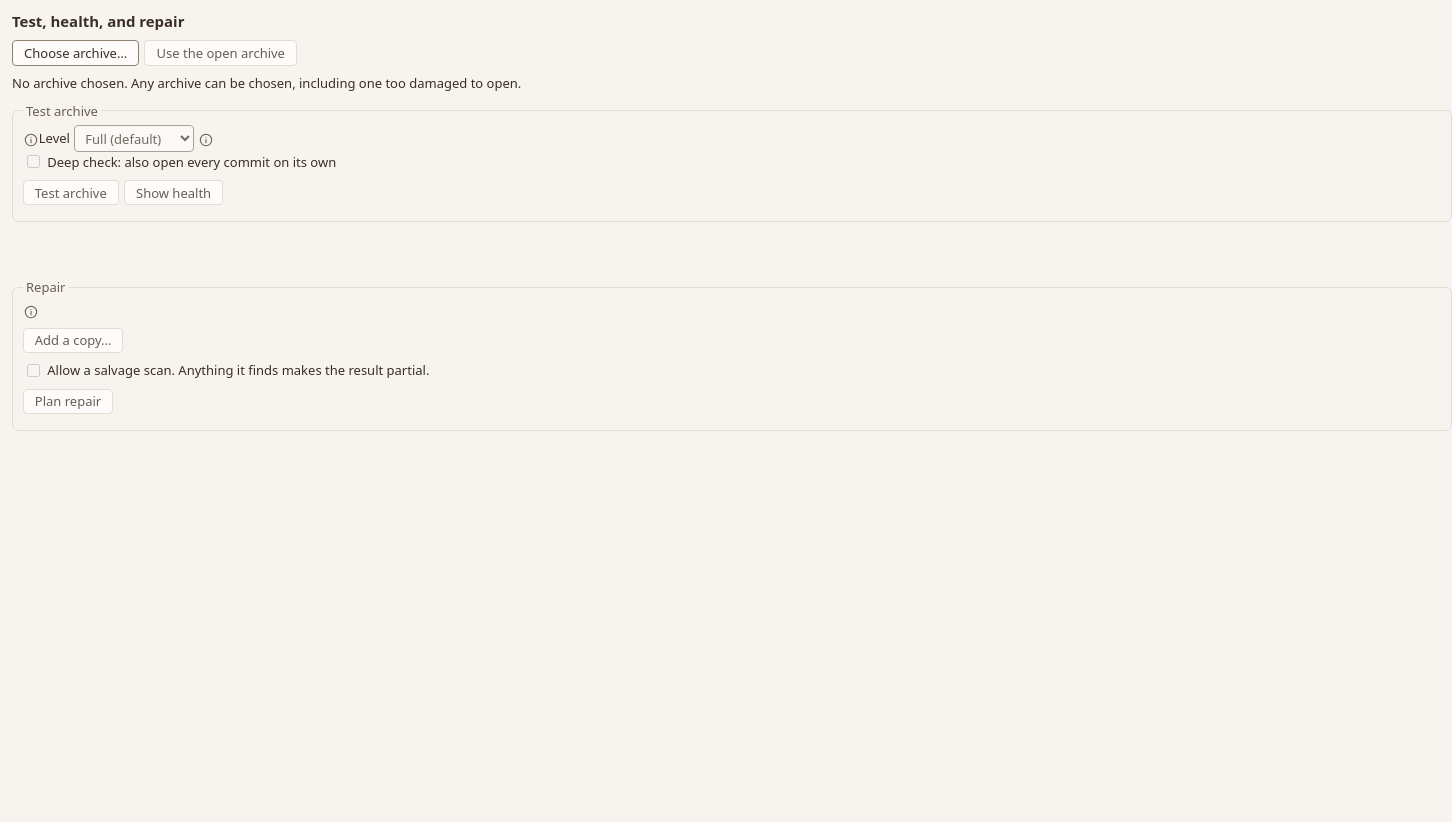
it: a passing report says no problems; an unfinished one says it could not finish
The image size is (1452, 822).
Click the button with test id "check-choose". click: (76, 53)
box: [12,40,139,66]
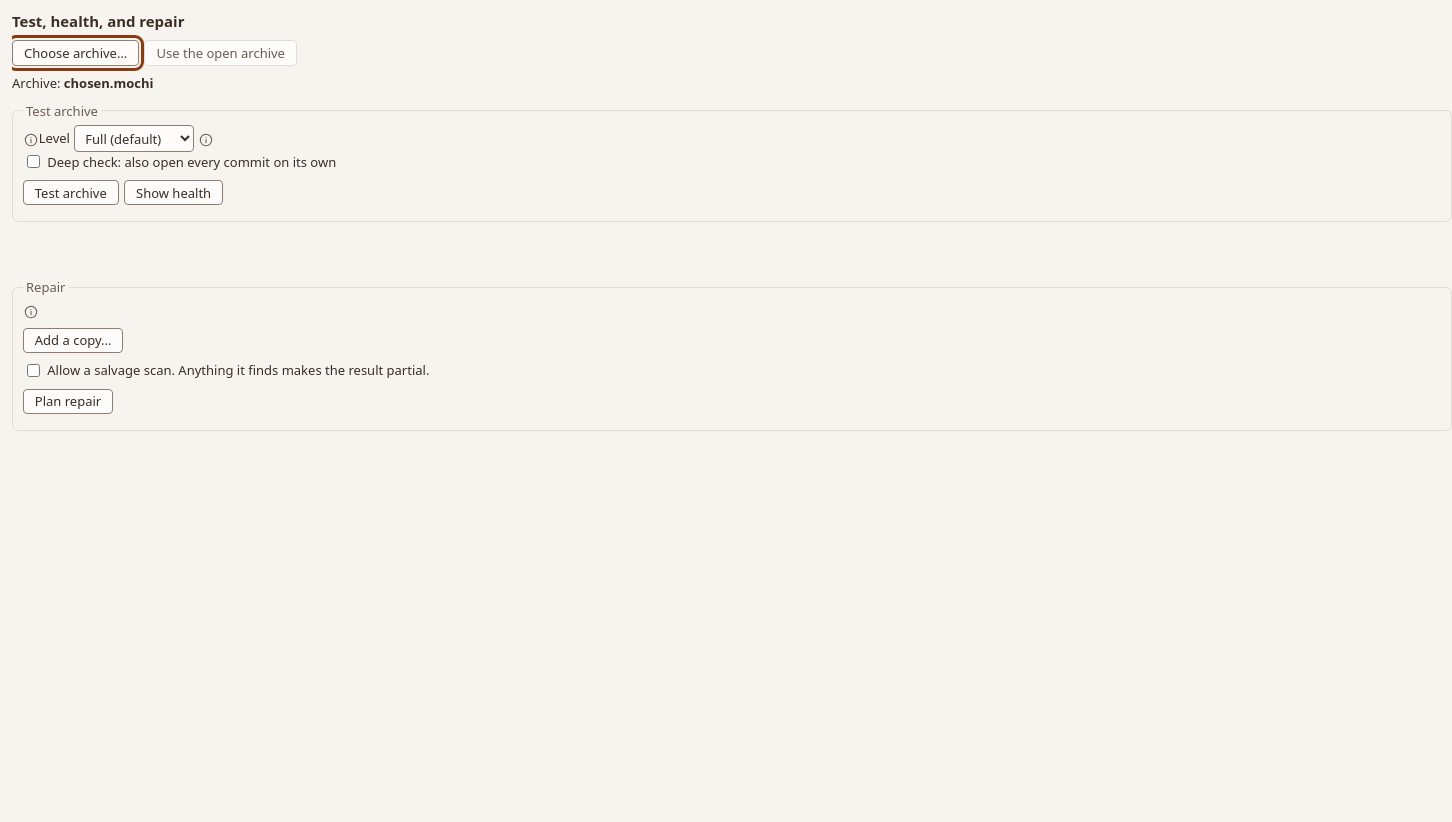
Check: the text "chosen.mochi" is shown, box [64,74,154,92]
Click the button with test id "check-test". click: (71, 193)
box: [23,180,119,206]
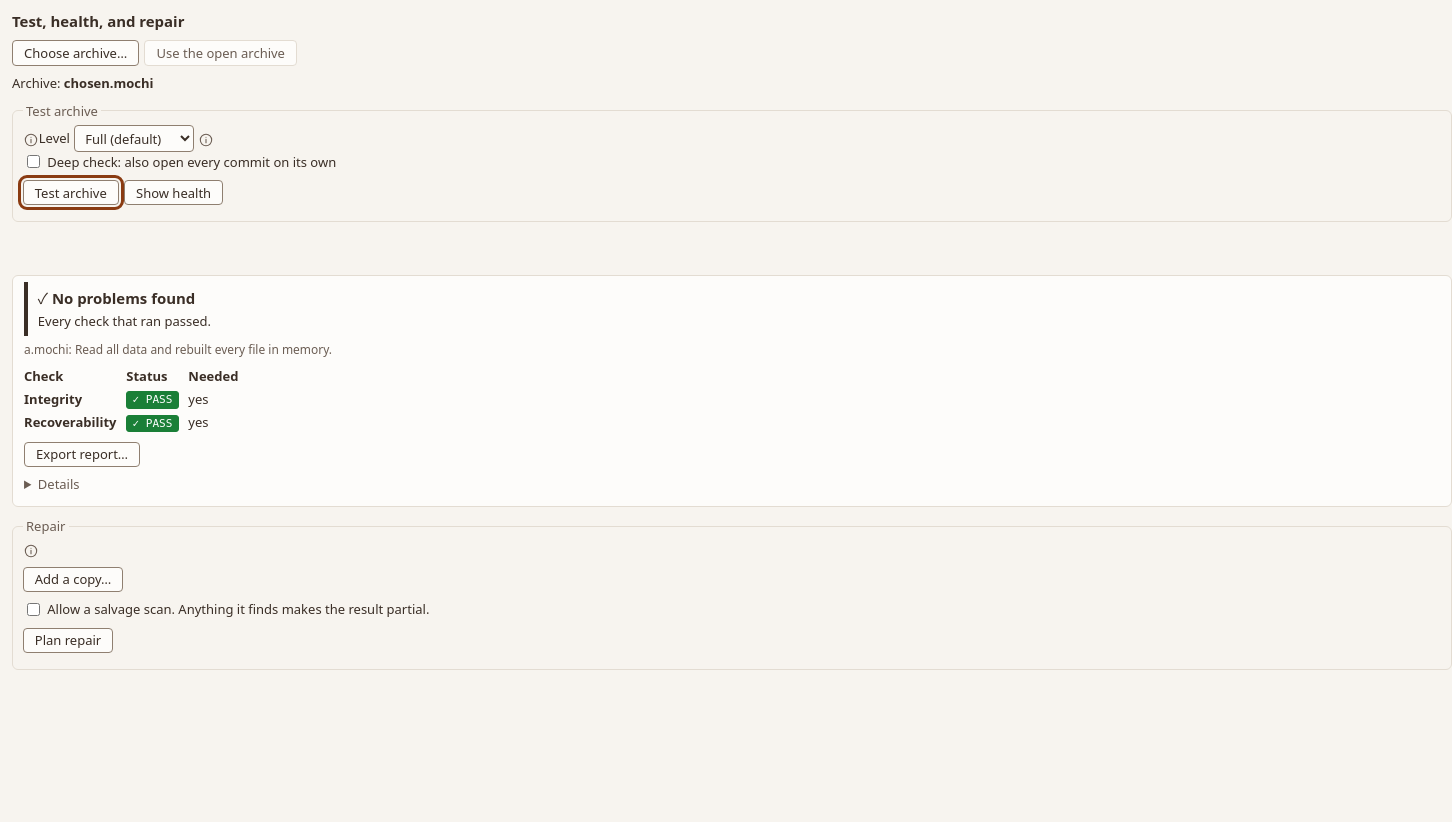
Check: the element with test id "report-headline" does not show "in the checks that ran", box [52,288,195,308]
Check: the element with test id "report-headline" reads "No problems found", box [52,288,195,308]
Click the button with test id "check-test". click: (71, 193)
box: [23,180,119,206]
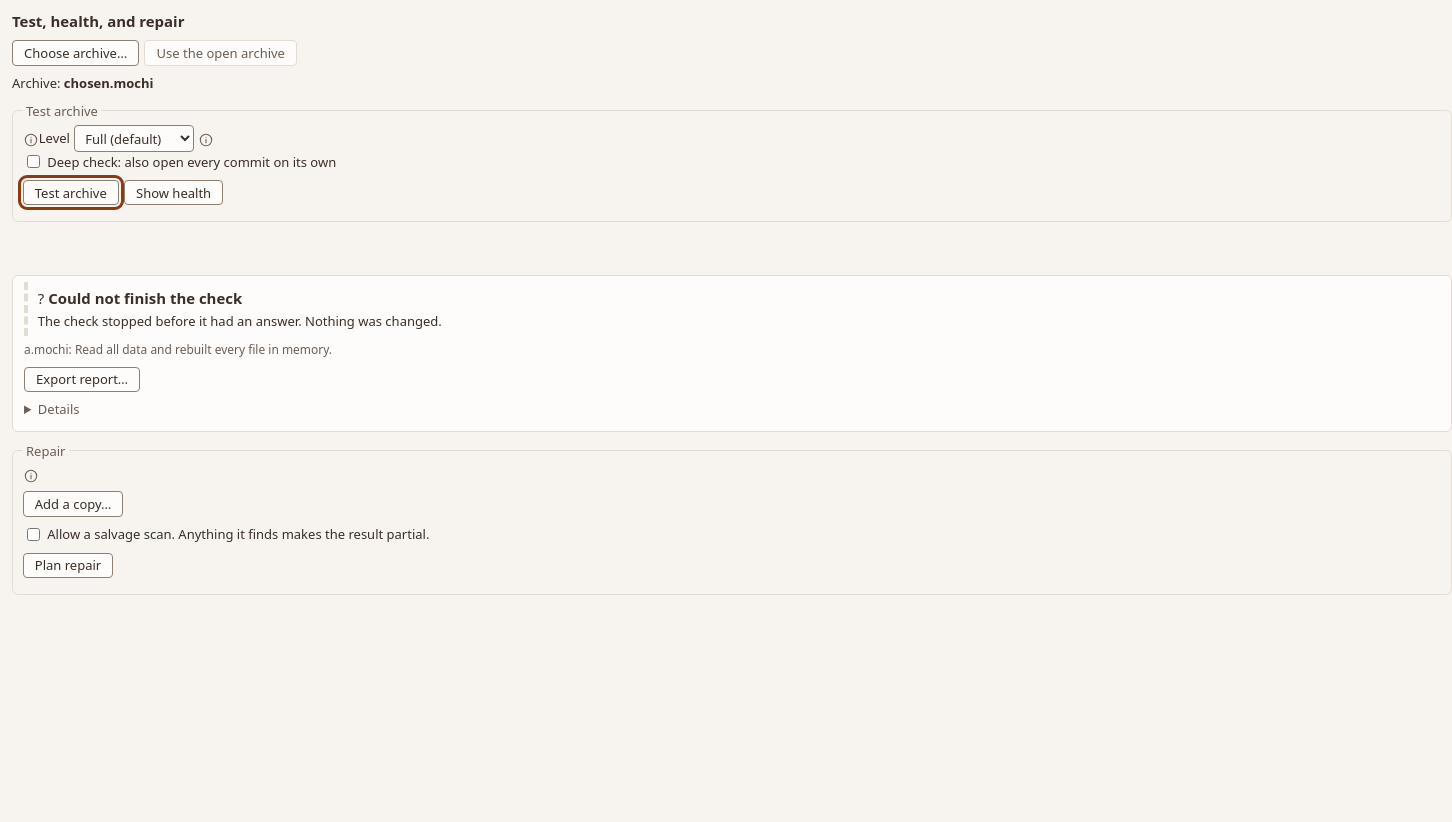
Check: the element with test id "report-headline" reads "Could not finish the check", box [48,288,242,308]
